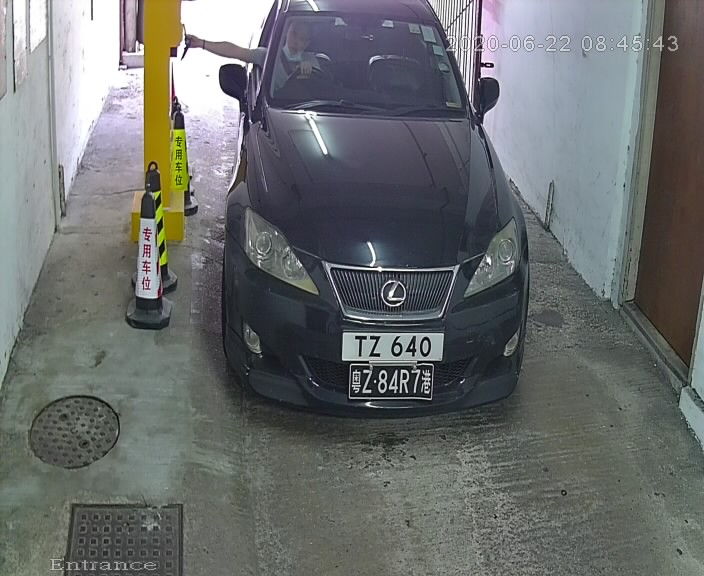privatecar: (197, 1, 552, 451)
